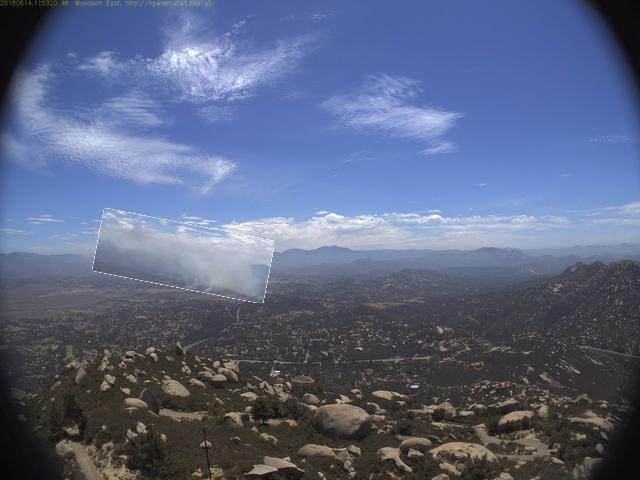smoke: (96, 217, 274, 297)
